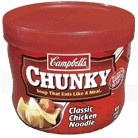grozi_111: (2, 0, 135, 134)
